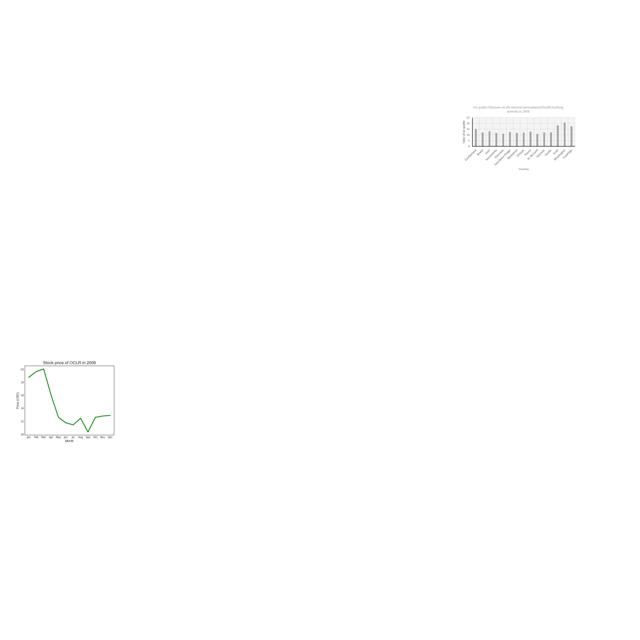Graph: (8, 355, 128, 445), (460, 104, 577, 172)
